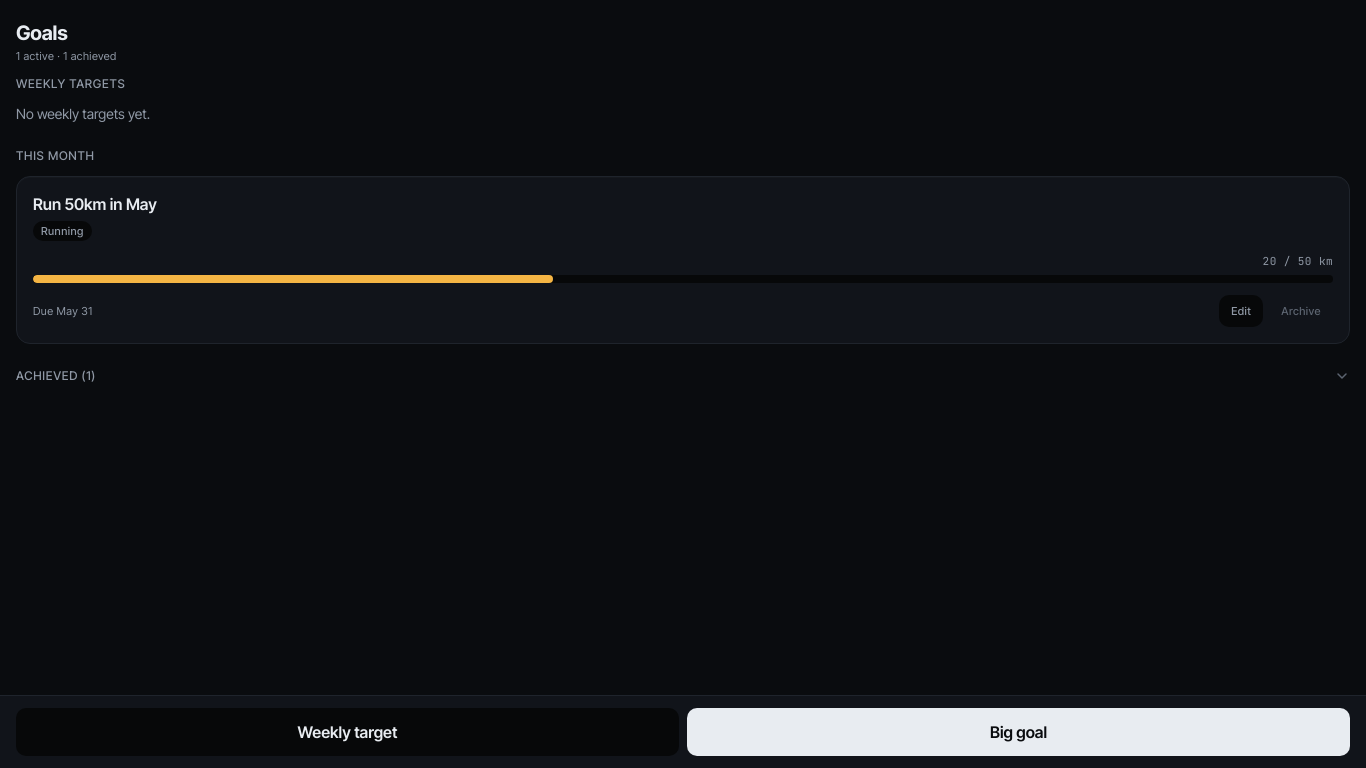
Test: GoalsScreen — Achieved section › clicking the Achieved toggle expands the section
Click the button "Achieved (1)".
click(51, 376)  # box left=16, top=368, right=1350, bottom=384
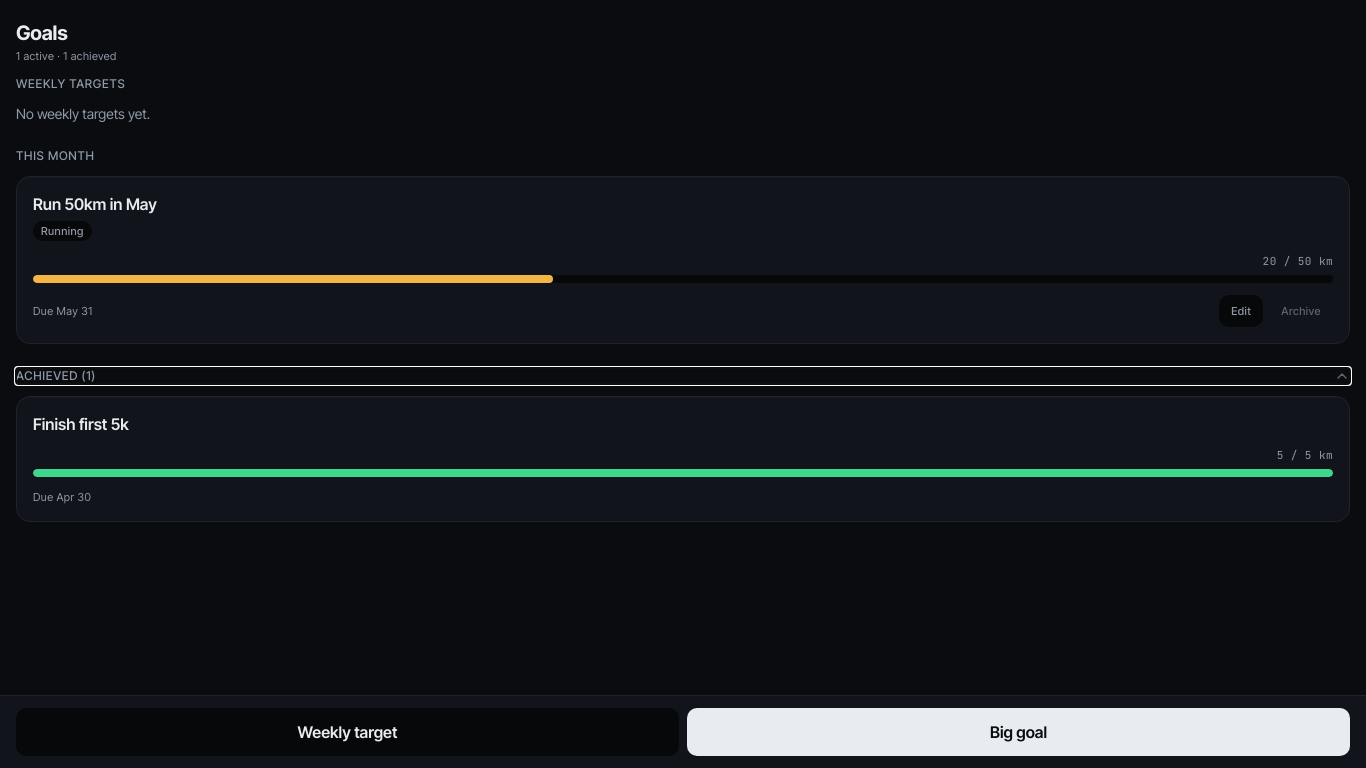
expect the text "Finish first 5k" is shown: met, box left=33, top=414, right=129, bottom=434
